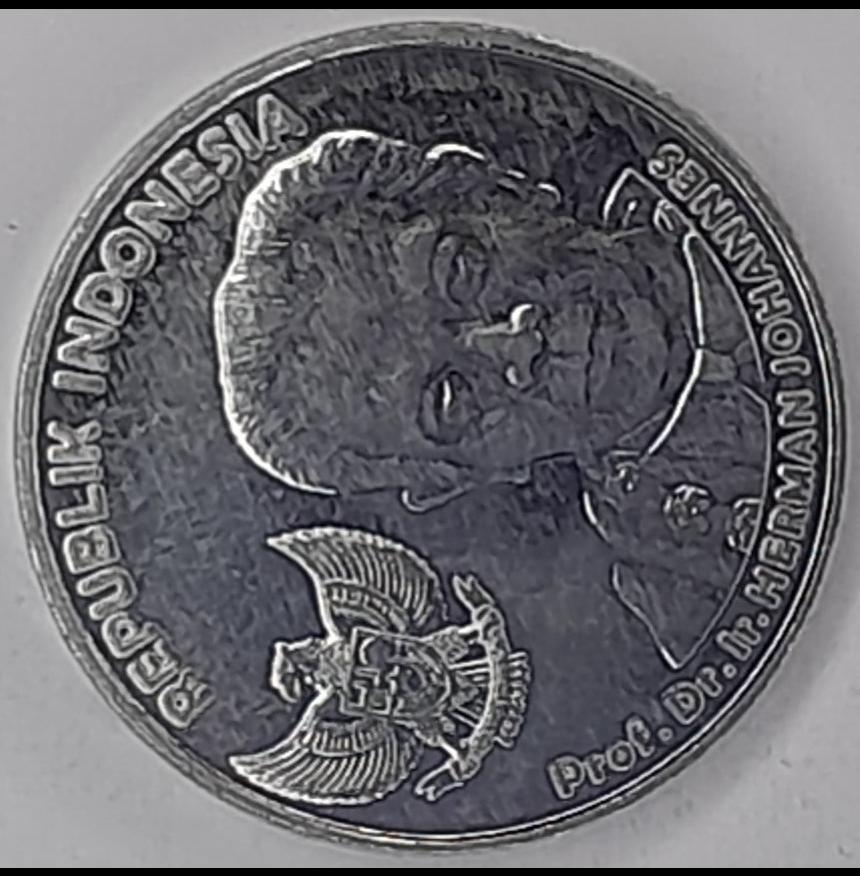coin_100_e2016: (9, 14, 853, 855)
